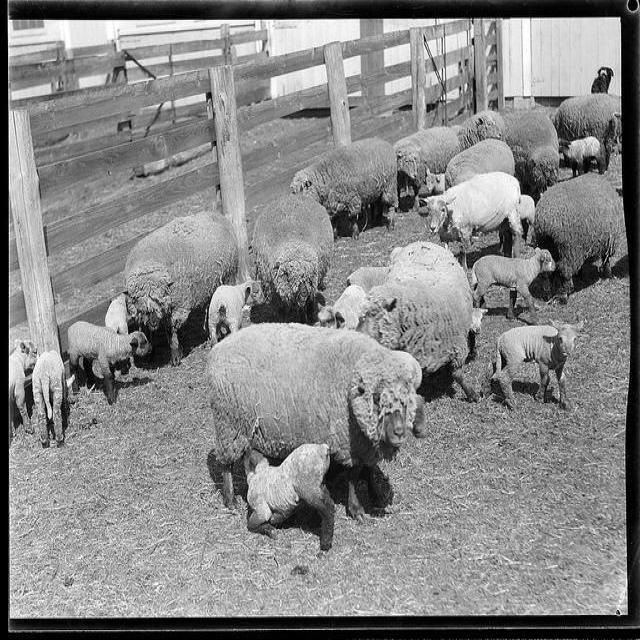Sheep: (0, 106, 607, 551), (204, 320, 425, 532), (327, 242, 488, 374), (123, 213, 239, 369), (538, 173, 624, 307), (251, 192, 332, 327), (289, 138, 398, 238), (419, 173, 523, 270), (490, 320, 595, 416), (69, 323, 154, 403), (469, 247, 557, 318), (549, 94, 623, 164), (393, 125, 461, 183)
